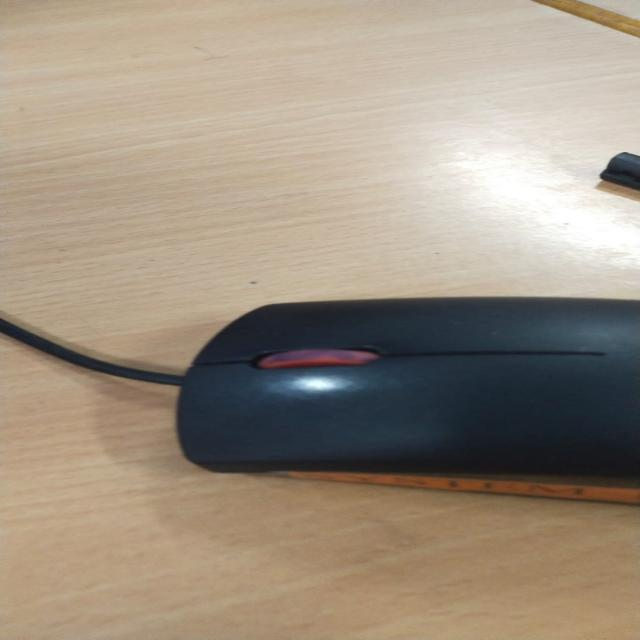mouse: (178, 220, 640, 602)
